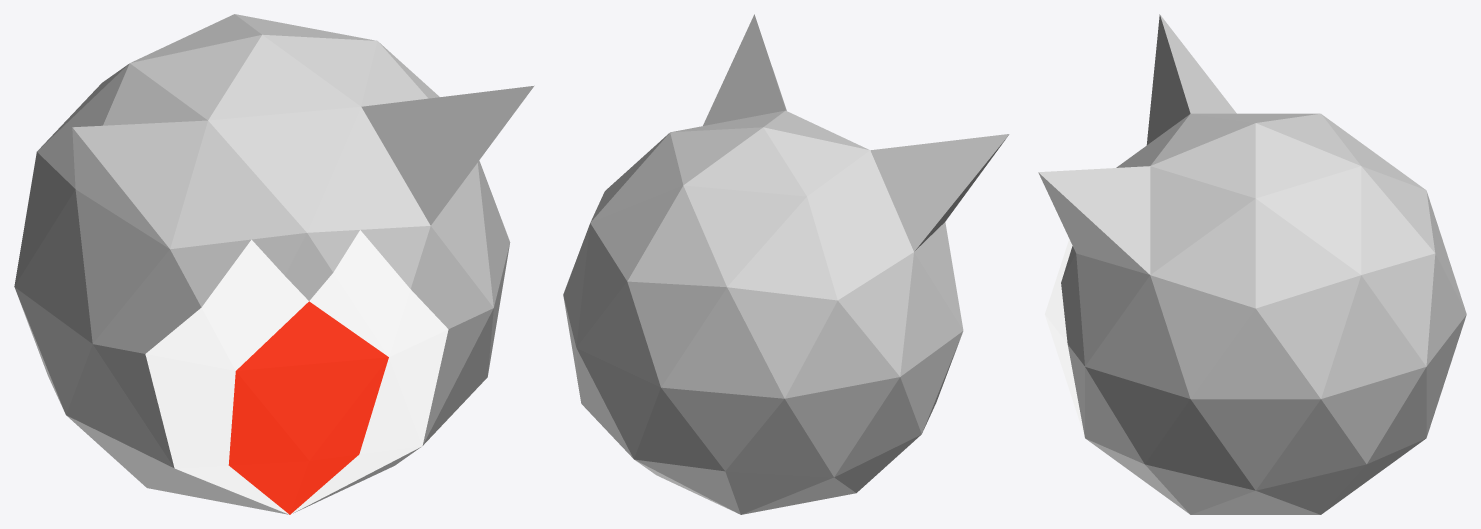
The model's file is demon_eye.glb.
3 renders of one model, left to right at view 1: azimuth 30°, elevation 25°; view 2: azimuth 150°, elevation 25°; view 3: azimuth 270°, elevation 25°, orthographic. The views are drawn at different scales.
Parts seen in each view (by area): view 1: Icosphere; view 2: Icosphere; view 3: Icosphere.
Boxes of the visible parts, x1,y1,x2,y2 form: Icosphere: (14,14,534,514); Icosphere: (563,14,1009,514); Icosphere: (1038,14,1466,514).
Size of the model in its own units: 5.13 by 5.04 by 5.01.
